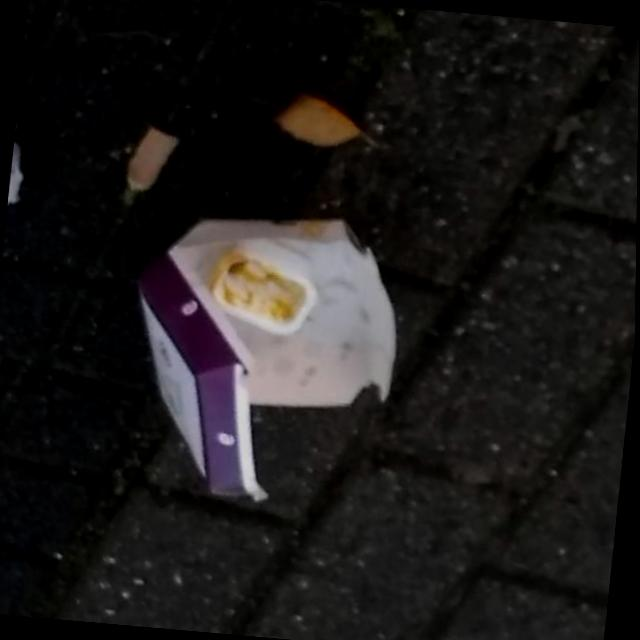Paper: (108, 194, 414, 517)
